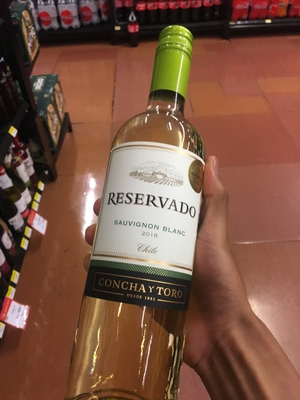reservado sauvignon blanc: (86, 28, 212, 400)
